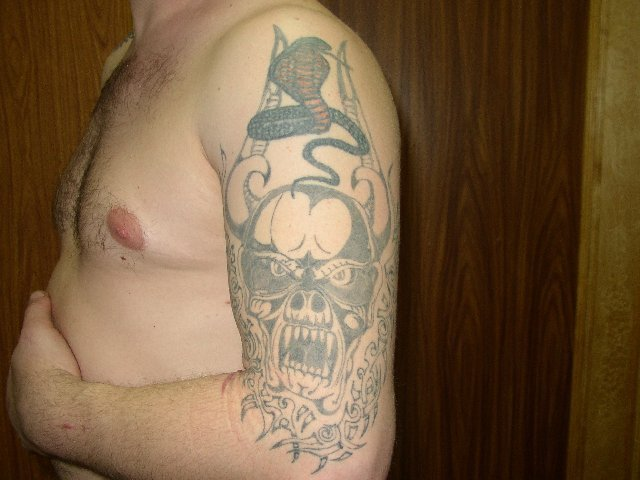tatu7_zmeya: (247, 30, 378, 192)
